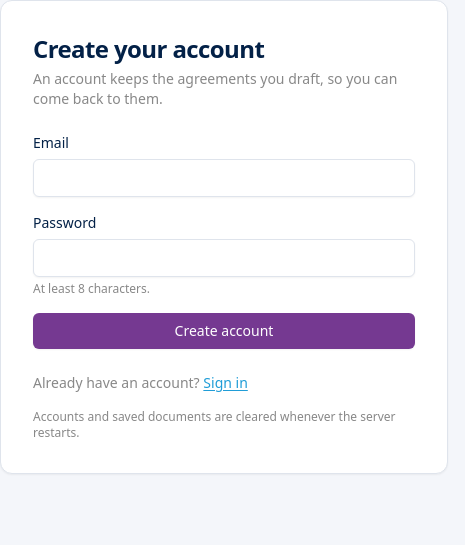
CredentialsForm › registering › passes on an address that is already taken
Step 1. Type "ada@example.com" into the field labelled "Email" → (224, 178), box [33,159,415,197]
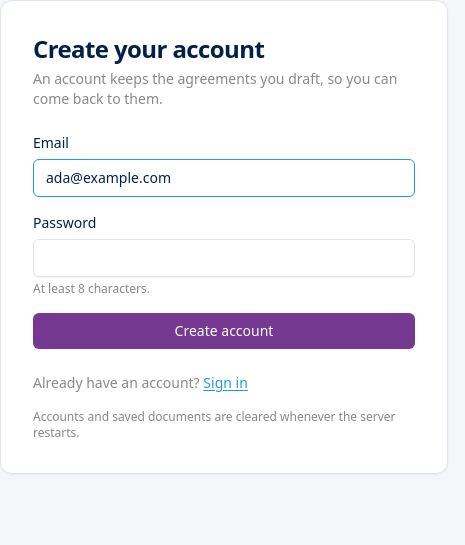
Step 2. Type "correct-horse" into the password field labelled "Password" → (224, 258), box [33,239,415,277]
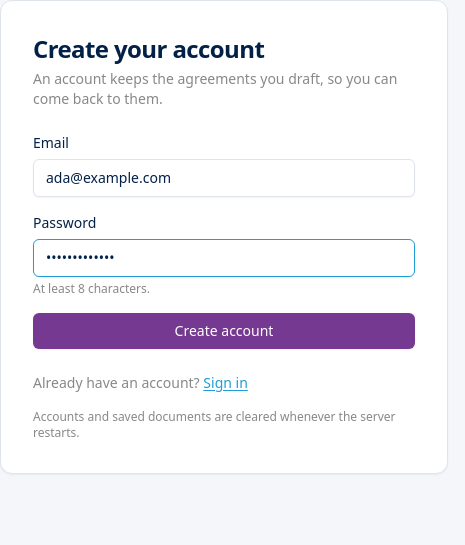
Step 3. Click the button "Create account" → (224, 331), box [33,313,415,349]
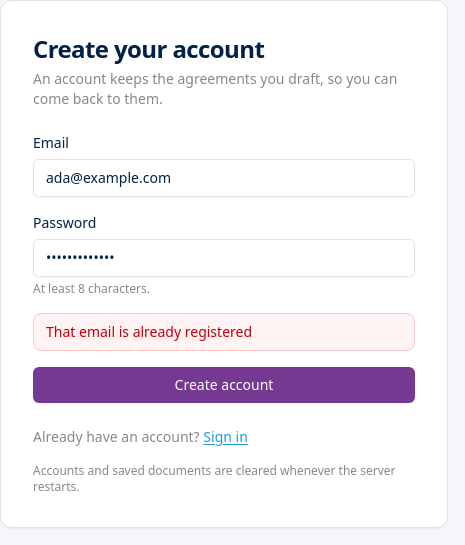
Now the message reads "That email is already registered", box [46,322,252,341]
